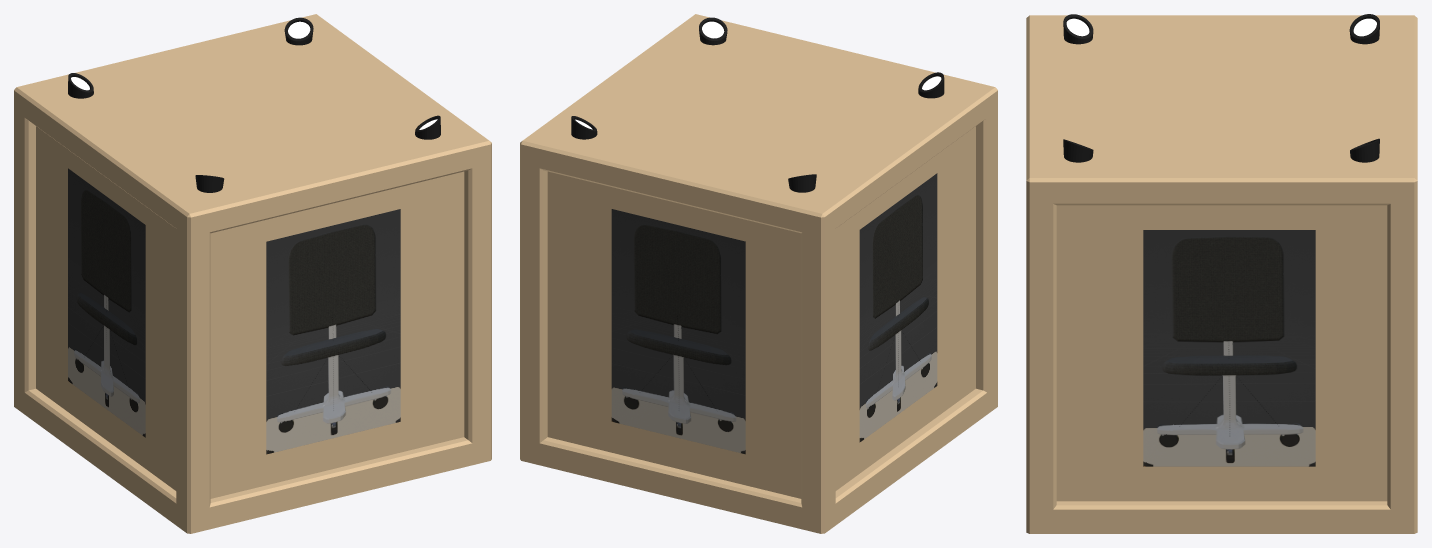
The model's file is chair_box.glb.
3 views of the same model, side by side, from view 1: azimuth 30°, elevation 25°; view 2: azimuth 150°, elevation 25°; view 3: azimuth 270°, elevation 25° (orthographic). The views are drawn at different scales.
Parts seen in each view (by area): view 1: Cube, Plane, Plane.003; view 2: Cube, Plane.001, Plane.003; view 3: Cube, Plane.002, Cylinder.006, Cylinder.002, Cylinder, Cylinder.004.
Boxes of the visible parts, x1,y1,x2,y2 form: Cube: (14, 14, 491, 533); Plane: (266, 209, 400, 454); Plane.003: (68, 168, 145, 437); Cube: (520, 14, 997, 533); Plane.001: (611, 209, 745, 454); Plane.003: (859, 173, 937, 442); Cube: (1026, 15, 1417, 533); Plane.002: (1143, 230, 1315, 466); Cylinder.006: (1350, 138, 1379, 162); Cylinder.002: (1063, 139, 1093, 162); Cylinder: (1063, 14, 1093, 44); Cylinder.004: (1349, 14, 1379, 44).
Bounding box in the file's own units: 0.4843 × 0.5103 × 0.4843.
4 materials, 1 textured.
